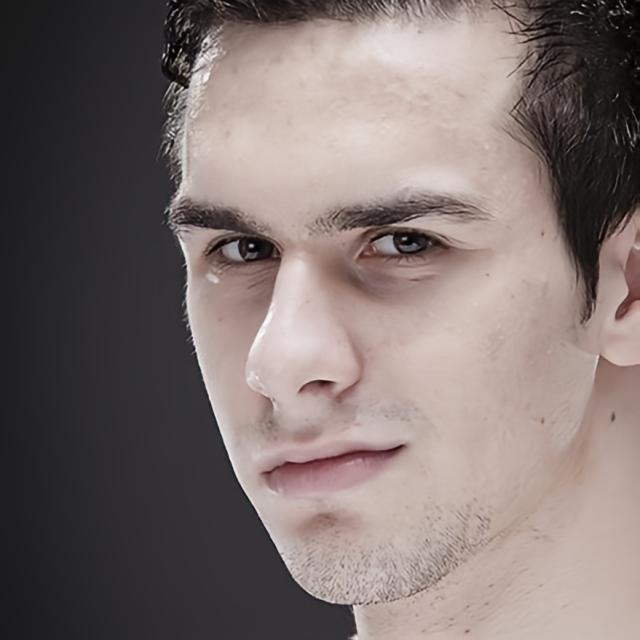content: (166, 12, 593, 608)
